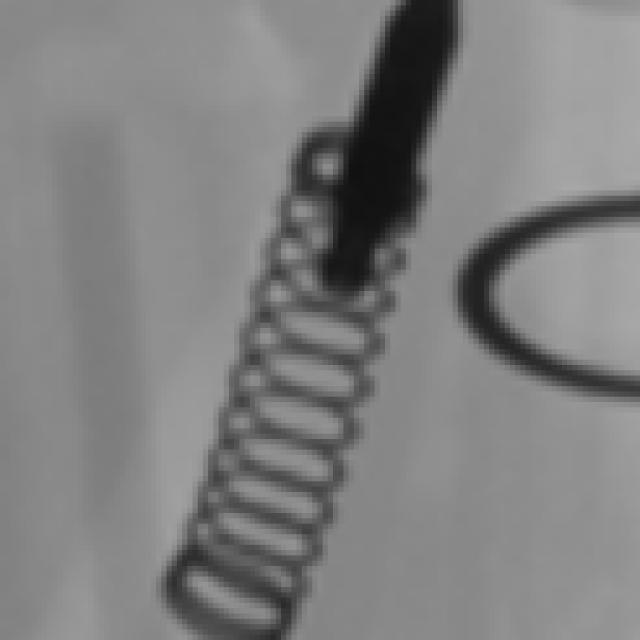GUN: (304, 3, 447, 286)
